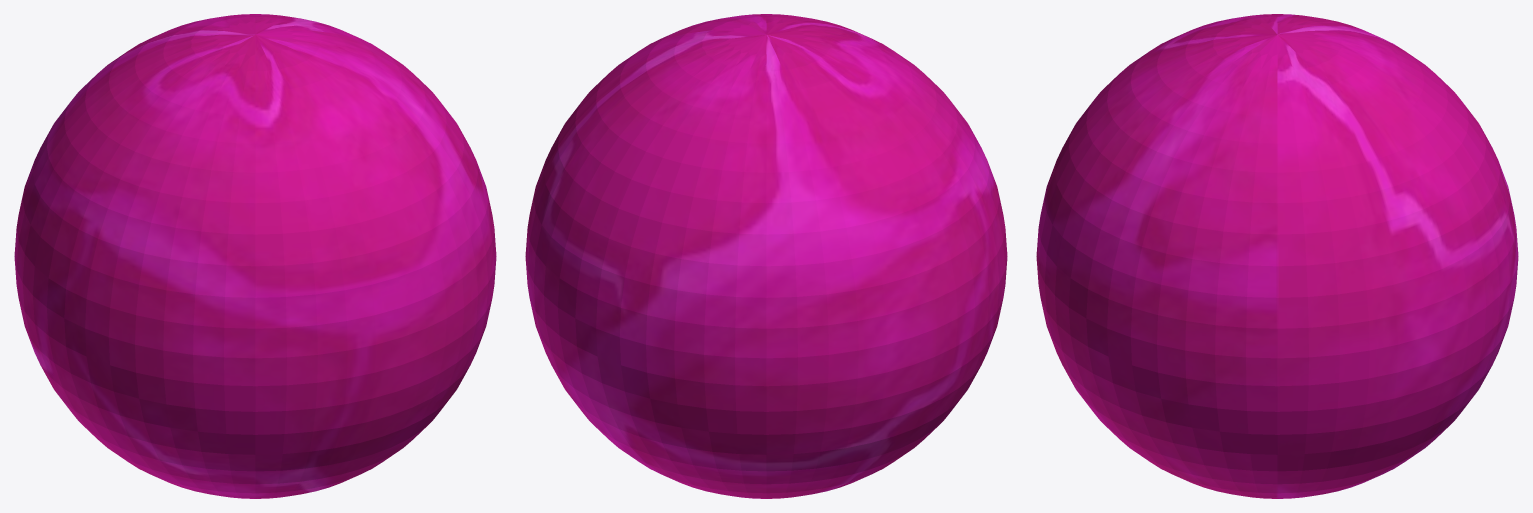
File: LinkPorno.gltf
The picture shows the model from 3 angles, left to right: view 1: azimuth 30°, elevation 25°; view 2: azimuth 150°, elevation 25°; view 3: azimuth 270°, elevation 25°; orthographic projection.
Parts seen in each view (by area): view 1: Redes sociales; view 2: Redes sociales; view 3: Redes sociales.
Boxes of the visible parts, box(x1,y1,x2,y2) form: Redes sociales: box(14, 14, 496, 498); Redes sociales: box(525, 14, 1007, 498); Redes sociales: box(1036, 14, 1518, 498).
Bounding box in the file's own units: 0.5898 × 0.5986 × 0.5898.
Materials: 1 (1 with a texture image).
